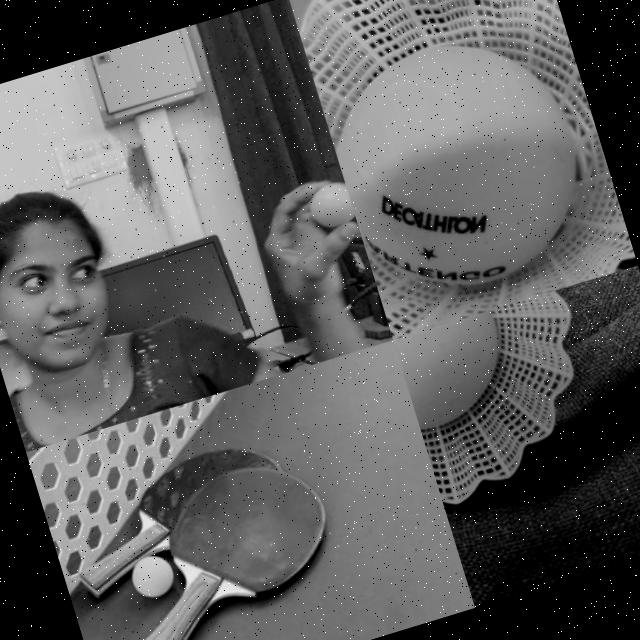ping-pong-ball: (315, 14, 604, 314), (393, 310, 518, 430), (304, 178, 356, 232), (126, 548, 180, 600)
